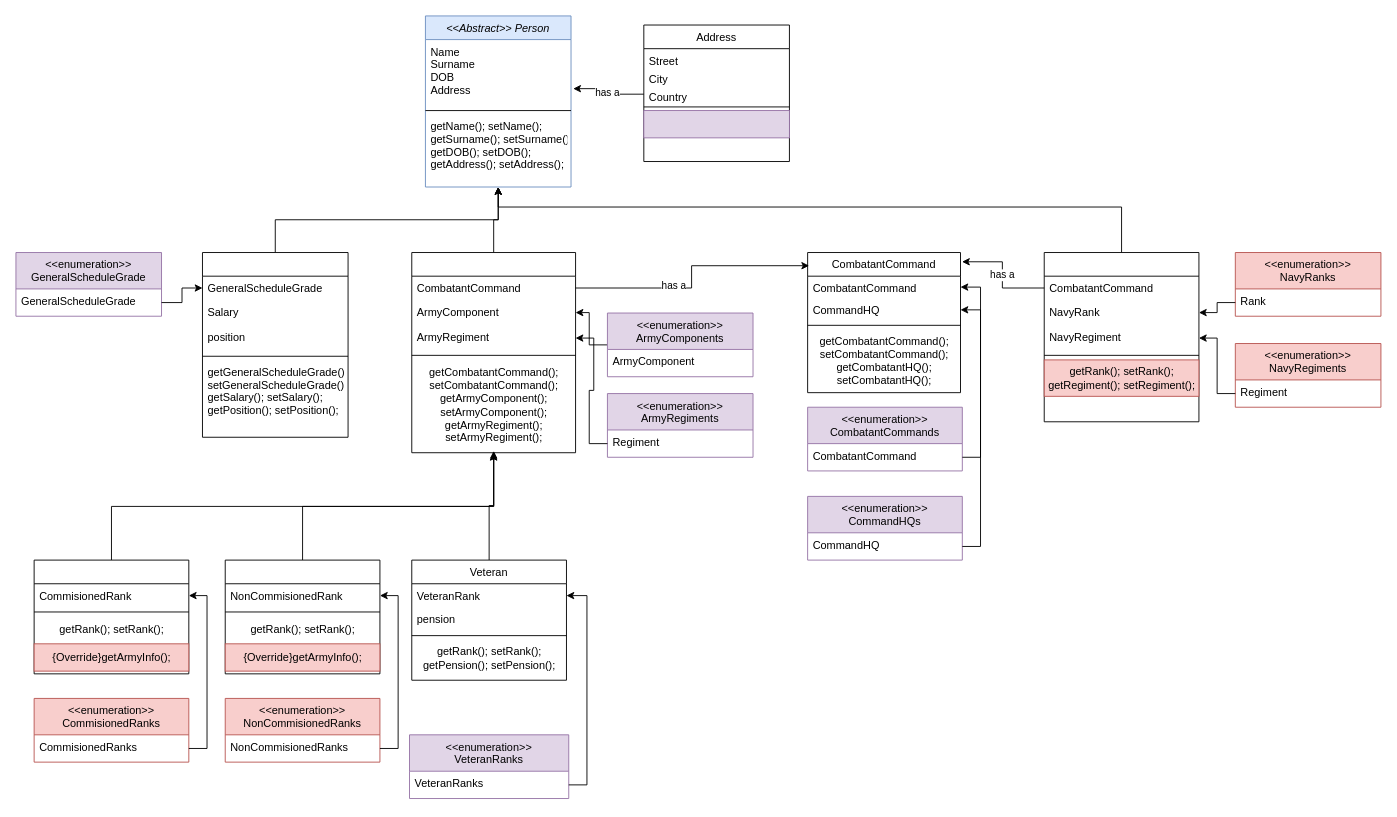
The diagram is 1397 pixels wide and 817 high, and some of its shapes have lost their labels. Here are the shapes that lost their labels. From the top down, the box of each, then its label:
(643, 110, 789, 138): getAddress(); setAddress();
(202, 252, 348, 437): CivilianEmployee
(411, 252, 576, 453): Soldier
(1043, 252, 1199, 422): Marine
(33, 559, 189, 674): CommisionedOfficer
(224, 559, 380, 674): NonCommisionedOfficer
